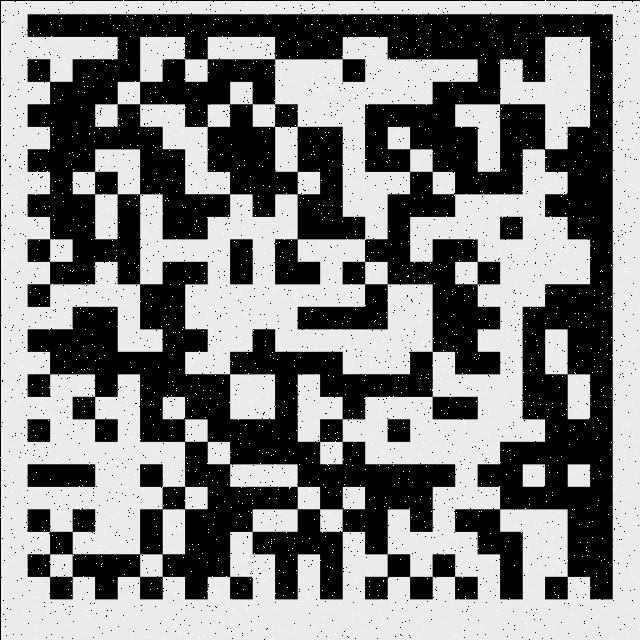datamatrix: (12, 5, 626, 610)
